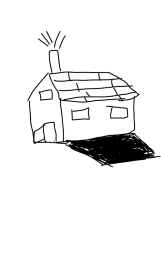door: (38, 116, 62, 144)
open_window: (68, 105, 96, 125), (106, 102, 132, 119)
roof: (22, 67, 144, 107)
shadow: (59, 131, 161, 174)
smoking_chimney: (32, 24, 73, 72)
wall: (59, 98, 141, 145)
